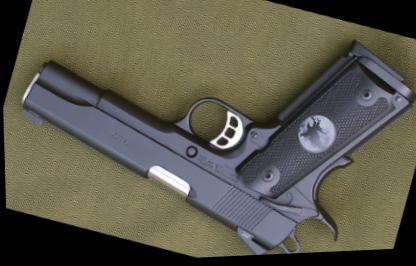pistol: (0, 0, 416, 263)
